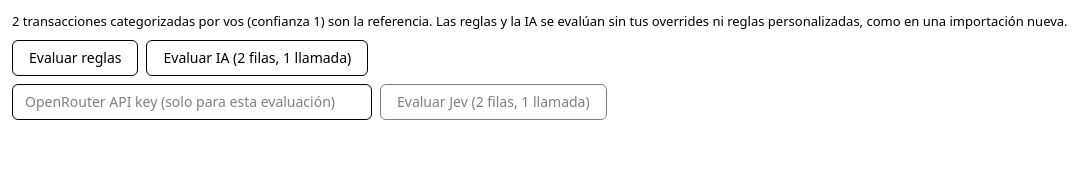
CategorizerEval — failures › shows and logs the text of a Claude-run failure that is not an AI error
Click the button "Evaluar IA (2 filas, 1 llamada)" at point(257, 58), box [146, 40, 368, 76]
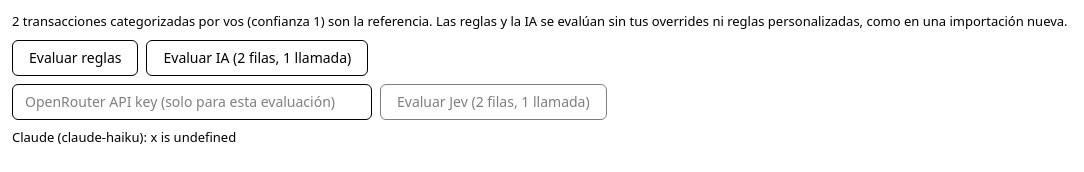
Now the text "Claude (claude-haiku): x is undefined" is shown, box [12, 128, 236, 146]
